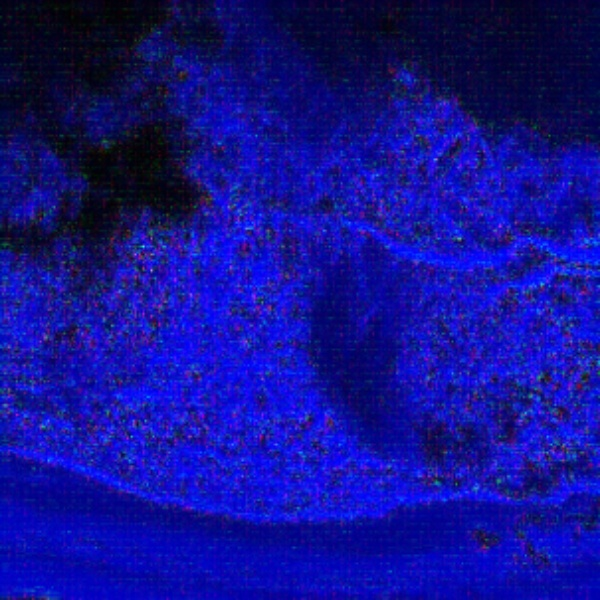rip_current: (226, 29, 467, 487)
